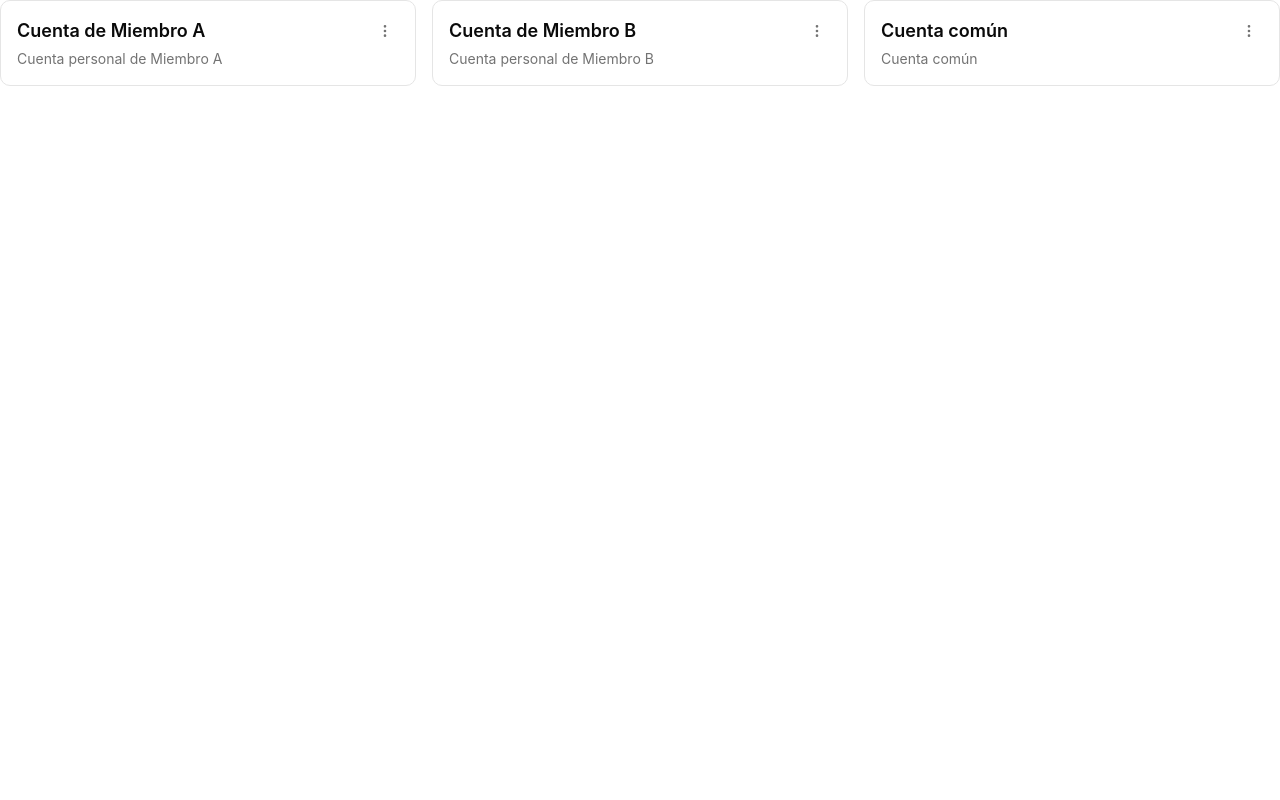
Test: AccountCardGrid › seleccionar «Renombrar miembro» cierra el menú y abre el diálogo precargado
The image size is (1280, 800).
Click the button named "Configuración de Cuenta de Miembro A" at (385, 31), box [363,9,407,53]
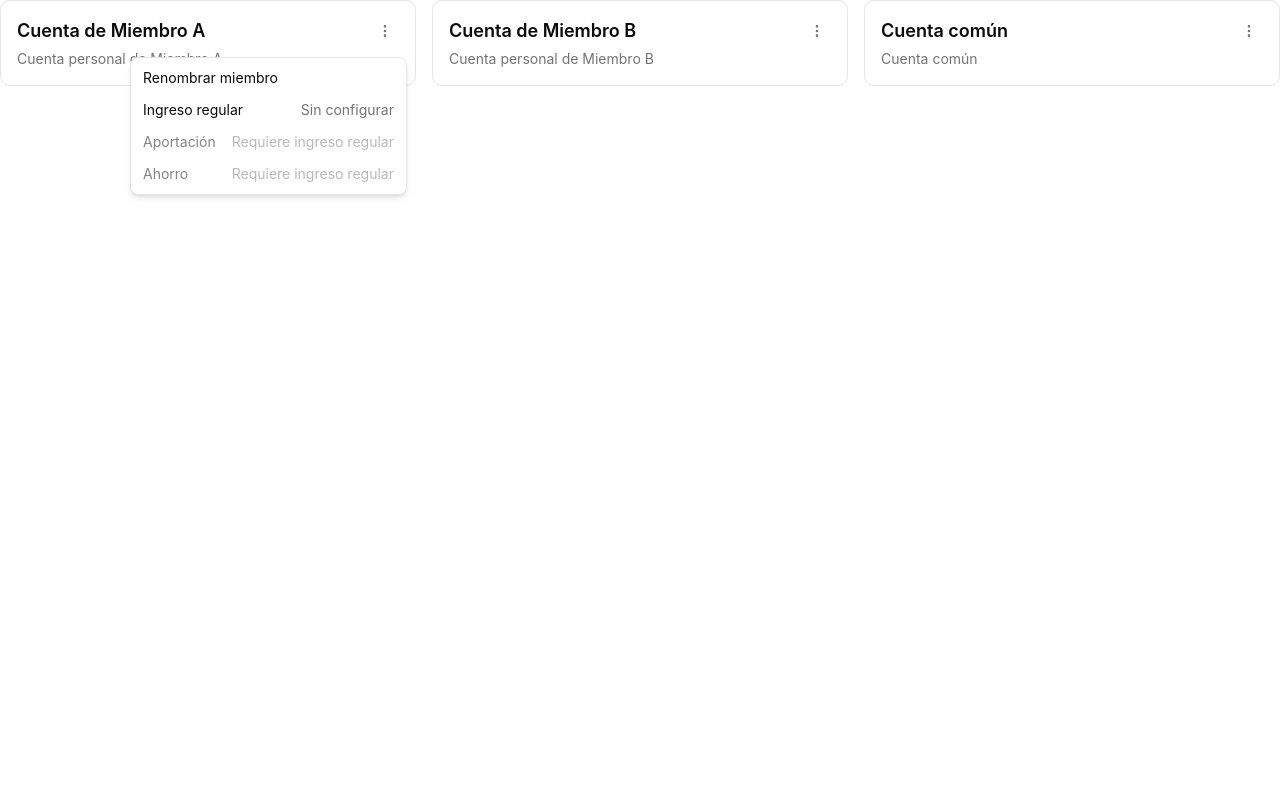
Click the menu item "Renombrar miembro" at (210, 78), box [143,69,278,86]
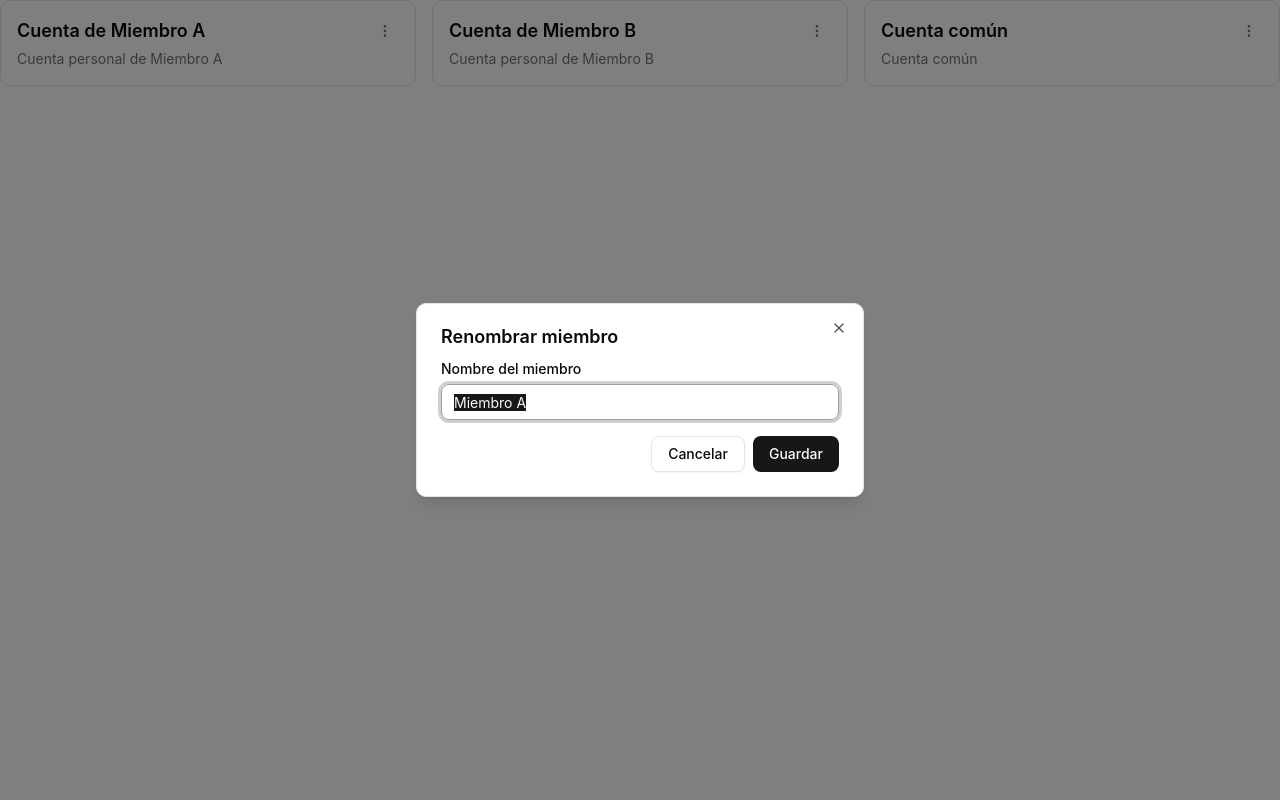
Expected: the menu is gone
Expected: the field labelled "Nombre del miembro" holds "Miembro A", [441,384,839,420]
